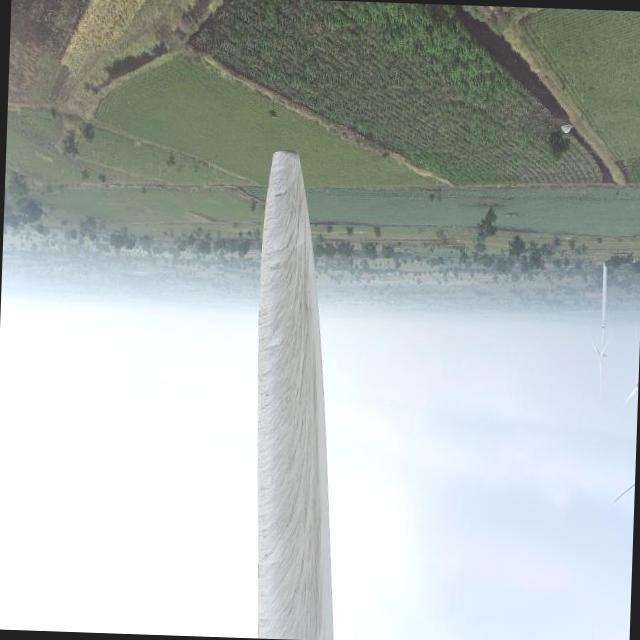Dirt: (255, 147, 335, 640)
